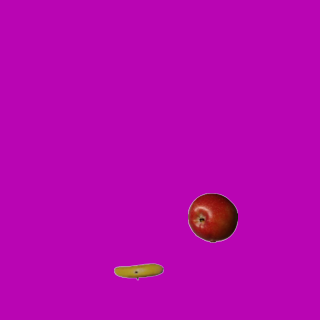Apple Braeburn: (187, 192, 237, 242)
Banana: (113, 246, 163, 296)
